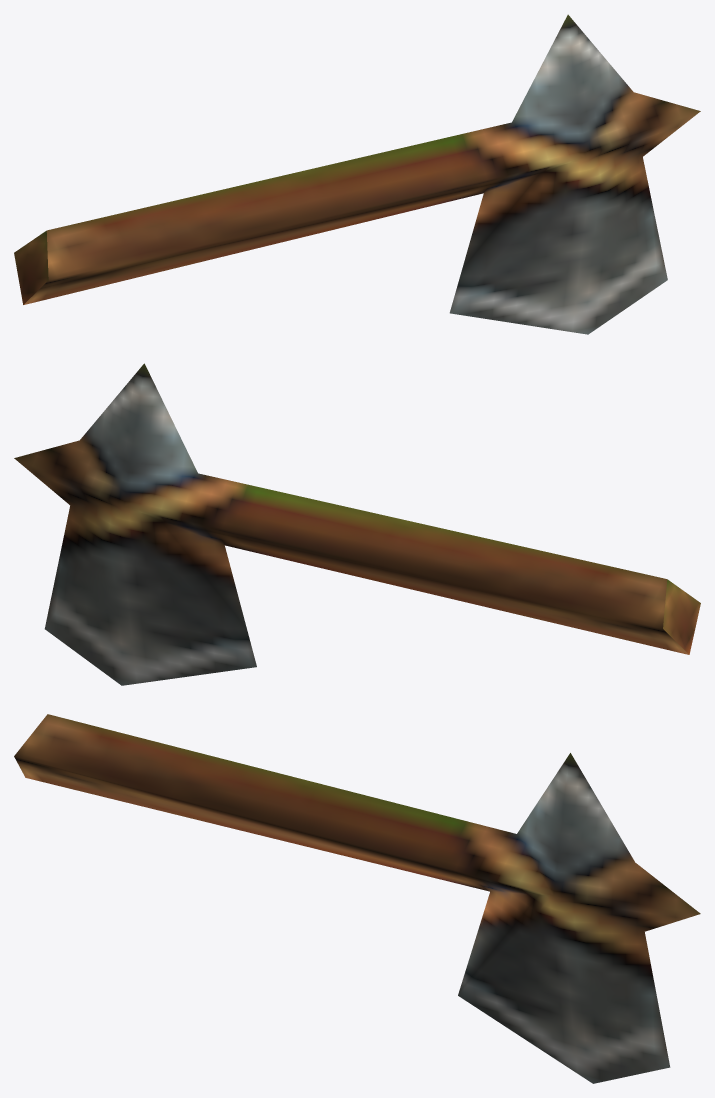
File: ORC_weapon_Axe_A.FBX.glb
The picture shows the model from 3 angles, top to bottom: view 1: azimuth 30°, elevation 25°; view 2: azimuth 150°, elevation 25°; view 3: azimuth 330°, elevation 25°; orthographic projection.
Visible parts, largest first — view 1: ORC_weapon_Axe_A; view 2: ORC_weapon_Axe_A; view 3: ORC_weapon_Axe_A.
Part boxes in pixels (left/top/right/bottom): ORC_weapon_Axe_A: left=14, top=14, right=700, bottom=334; ORC_weapon_Axe_A: left=14, top=363, right=700, bottom=685; ORC_weapon_Axe_A: left=14, top=714, right=700, bottom=1083.
Size of the model in its own units: 29124 by 13440 by 2727.
1 material, 1 textured.
